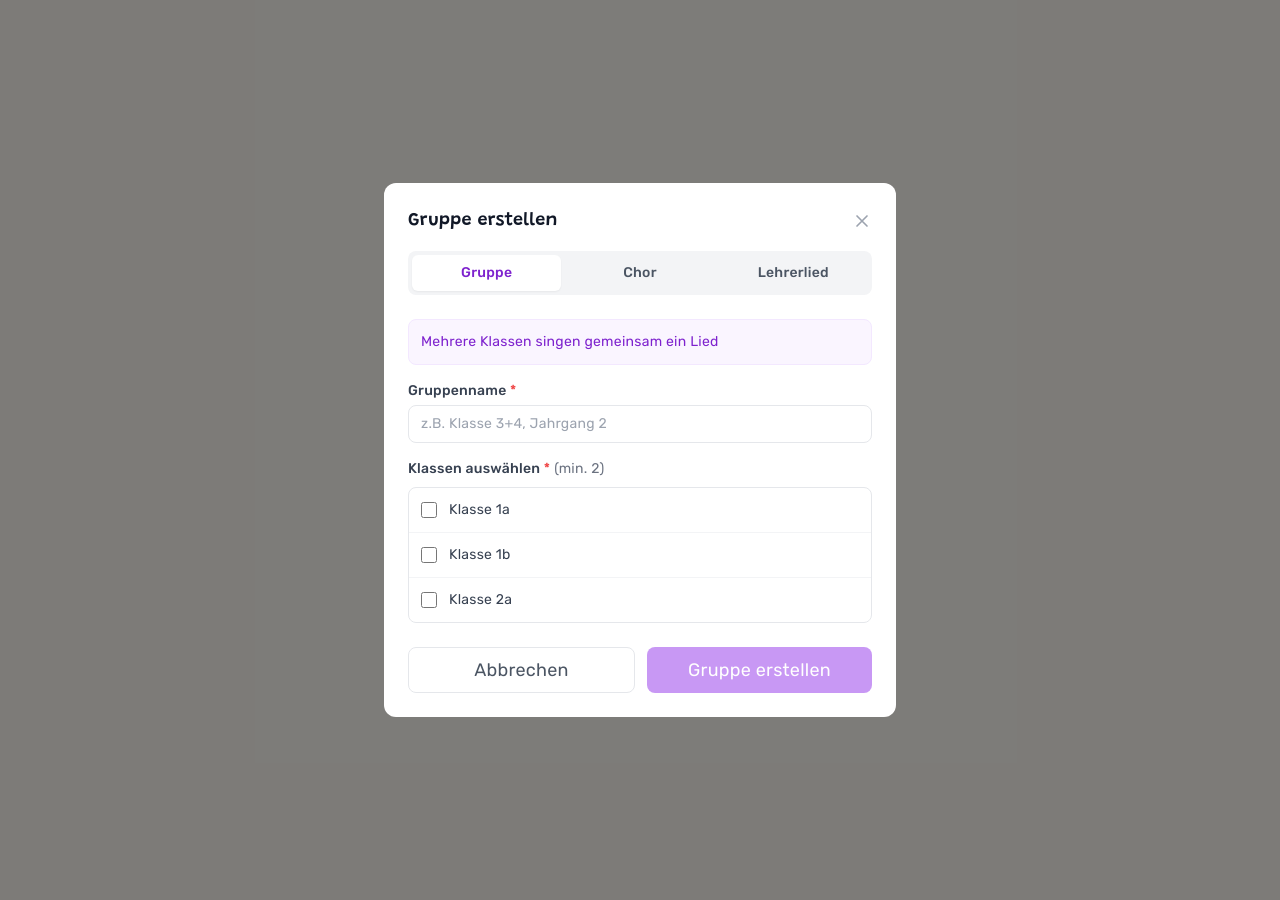
Test: UnifiedAddModal › switches to Chor tab and shows correct content
The image size is (1280, 900).
Click Chor tab
Click the button "Chor" at (640,273), box [565, 255, 715, 291]
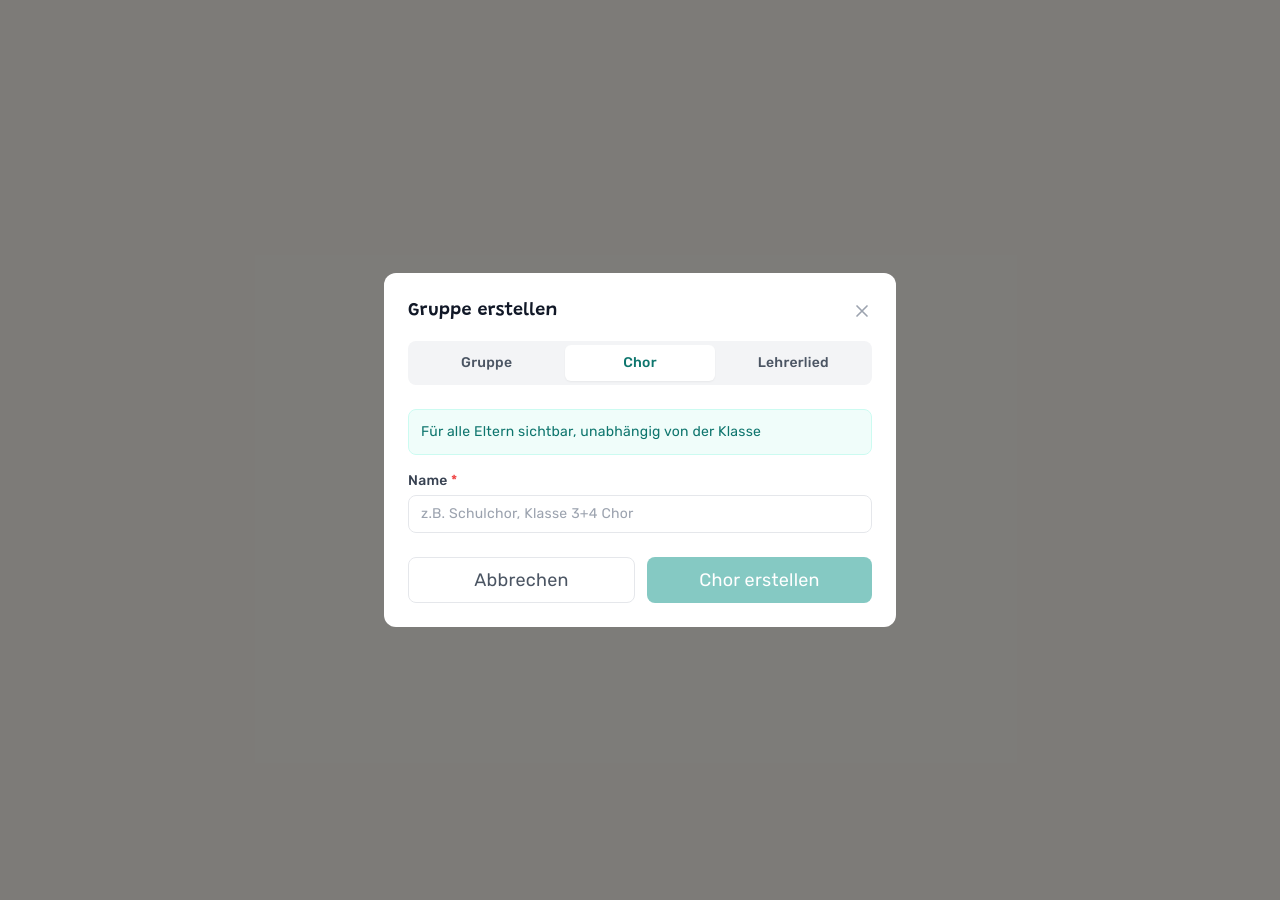
Expected: the text "Für alle Eltern sichtbar, unabhängig von der Klasse" is shown, [421, 423, 761, 440]
Expected: the text "Klassen auswählen" is gone
Expected: the button "Chor erstellen" is shown, [647, 557, 872, 603]
